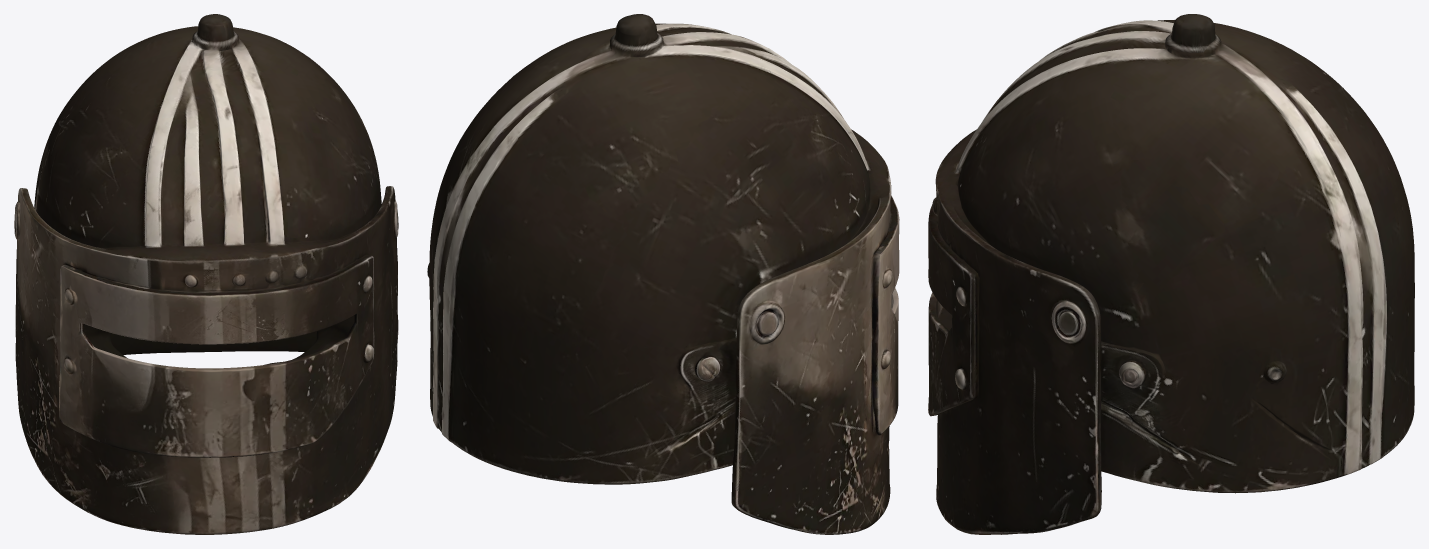
Rendered from helmet-killa.glb.
The picture shows the model from 3 angles, left to right: view 1: azimuth 30°, elevation 25°; view 2: azimuth 150°, elevation 25°; view 3: azimuth 270°, elevation 25°; orthographic projection. The views are drawn at different scales.
Parts seen in each view (by area): view 1: tripo_node_c1e4d6a6-5114-4f58-aebc-7792d3294b42; view 2: tripo_node_c1e4d6a6-5114-4f58-aebc-7792d3294b42; view 3: tripo_node_c1e4d6a6-5114-4f58-aebc-7792d3294b42.
Part boxes in pixels (x1,y1,x2,y2): tripo_node_c1e4d6a6-5114-4f58-aebc-7792d3294b42: (14,14,398,534); tripo_node_c1e4d6a6-5114-4f58-aebc-7792d3294b42: (427,14,899,534); tripo_node_c1e4d6a6-5114-4f58-aebc-7792d3294b42: (928,14,1414,534).
Bounding box in the file's own units: 0.816 × 0.981 × 0.8569.
1 material, 1 textured.
